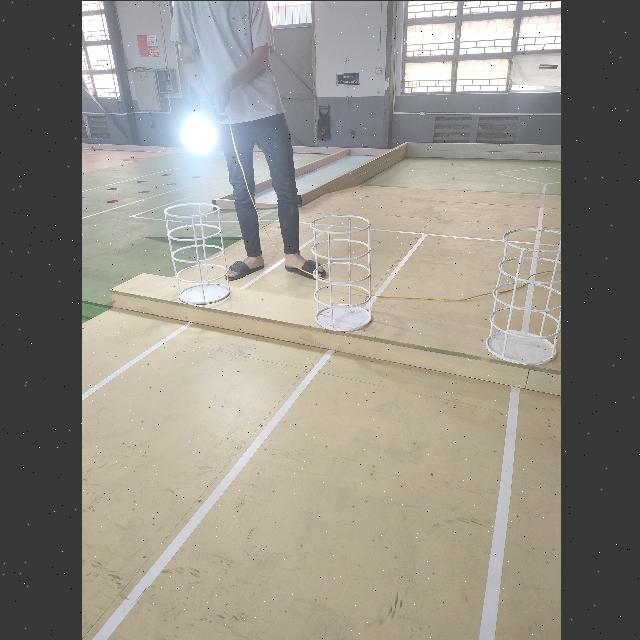S: (482, 226, 560, 366), (307, 211, 373, 331), (161, 201, 229, 304)
